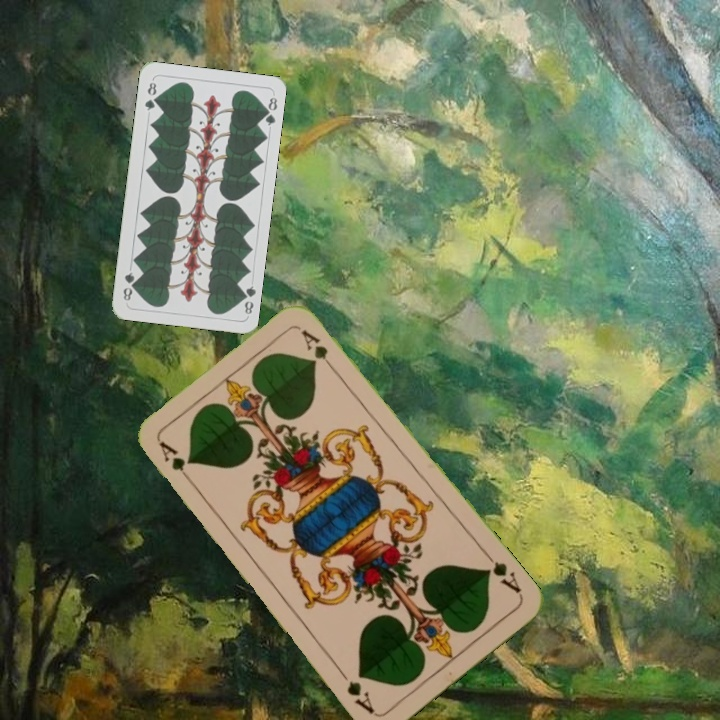G8: (236, 282, 258, 317), (140, 78, 159, 113)
GA: (155, 437, 197, 488), (480, 548, 524, 596)
